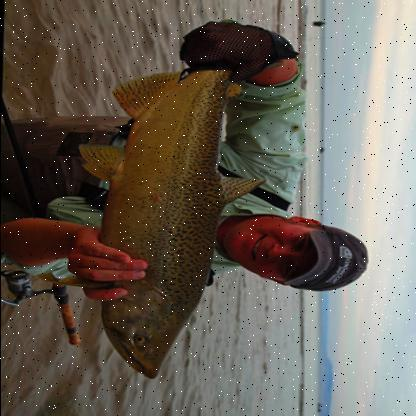fish: (74, 17, 266, 382)
